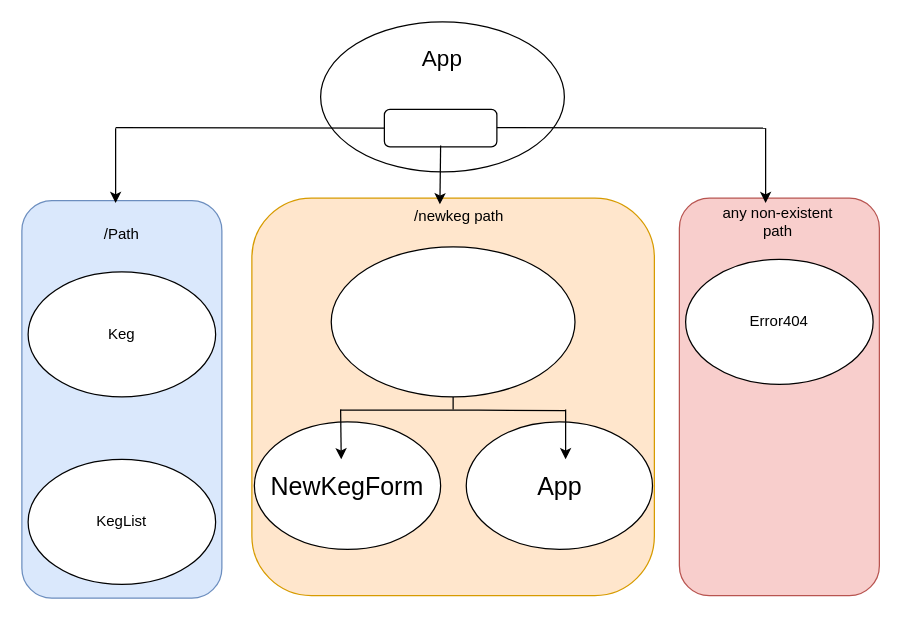
The diagram is 901 pixels wide and 620 high, and some of its shapes have lost their labels. Here are the shapes that lost their labels. From the top down, the box of each, then its label:
(383, 108, 497, 147): Routes
(330, 246, 575, 397): NewKegControl
